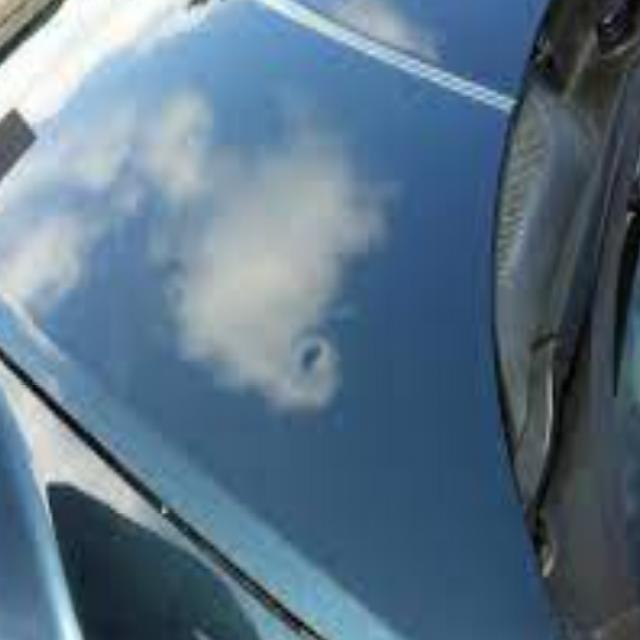dents: (276, 328, 354, 420)
